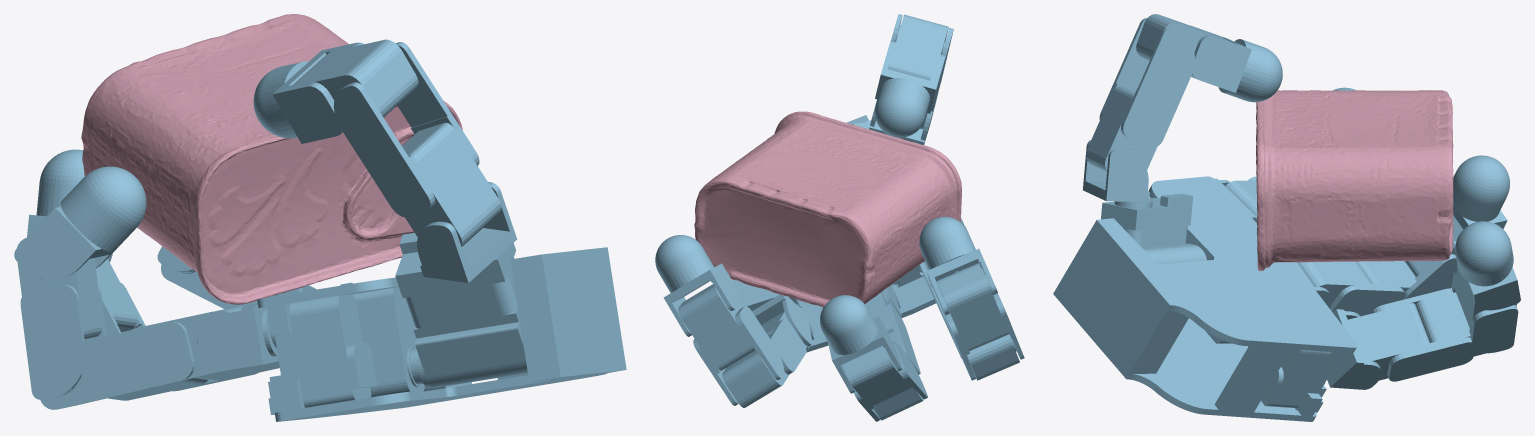
The picture shows the model from 3 angles, left to right: view 1: azimuth 30°, elevation 25°; view 2: azimuth 150°, elevation 25°; view 3: azimuth 270°, elevation 25°; orthographic projection. The views are drawn at different scales.
Visible parts, largest first — view 1: world; view 2: world; view 3: world.
Boxes of the visible parts, left/top/right/bottom form: world: left=14, top=14, right=626, bottom=421; world: left=655, top=14, right=1024, bottom=421; world: left=1053, top=14, right=1520, bottom=421.
Size of the model in its own units: 0.1854 by 0.1666 by 0.198.
